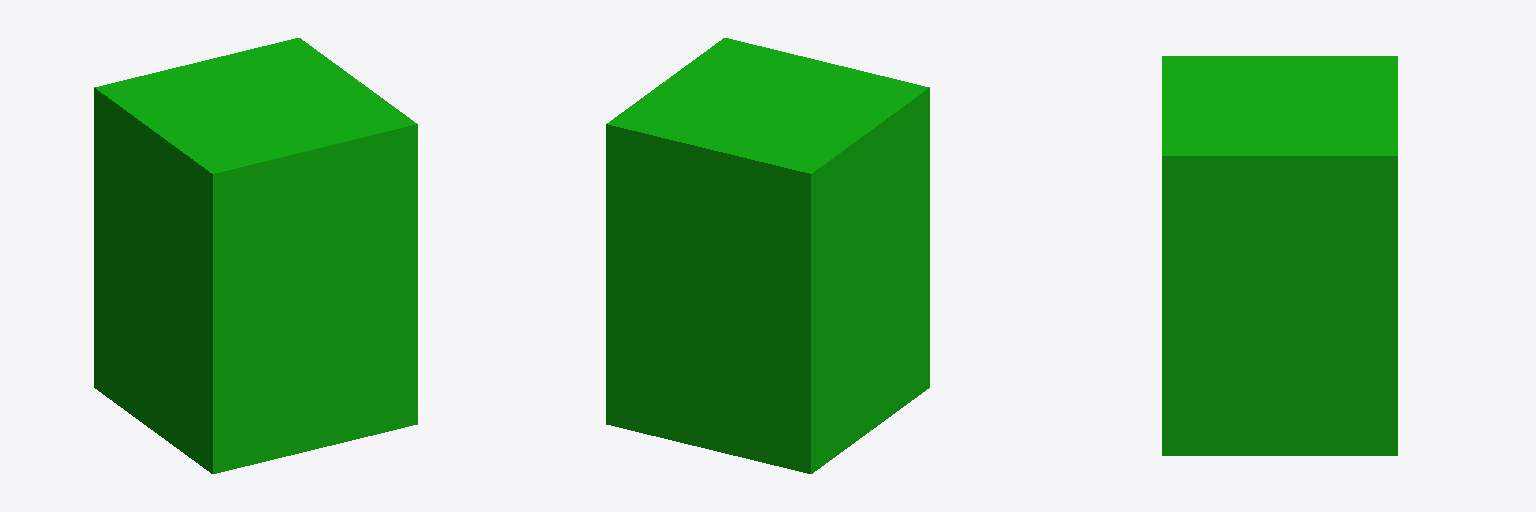
The picture shows the model from 3 angles: view 1: azimuth 30°, elevation 25°; view 2: azimuth 150°, elevation 25°; view 3: azimuth 270°, elevation 25°; orthographic projection.
Parts seen in each view (by area): view 1: object 1; view 2: object 1; view 3: object 1.
Part boxes in pixels (x1,y1,x2,y2): object 1: (94, 38, 417, 473); object 1: (606, 38, 929, 473); object 1: (1162, 56, 1397, 455).
Size of the model in its own units: 0.5 by 0.7 by 0.5.
1 materials, 1 textured.